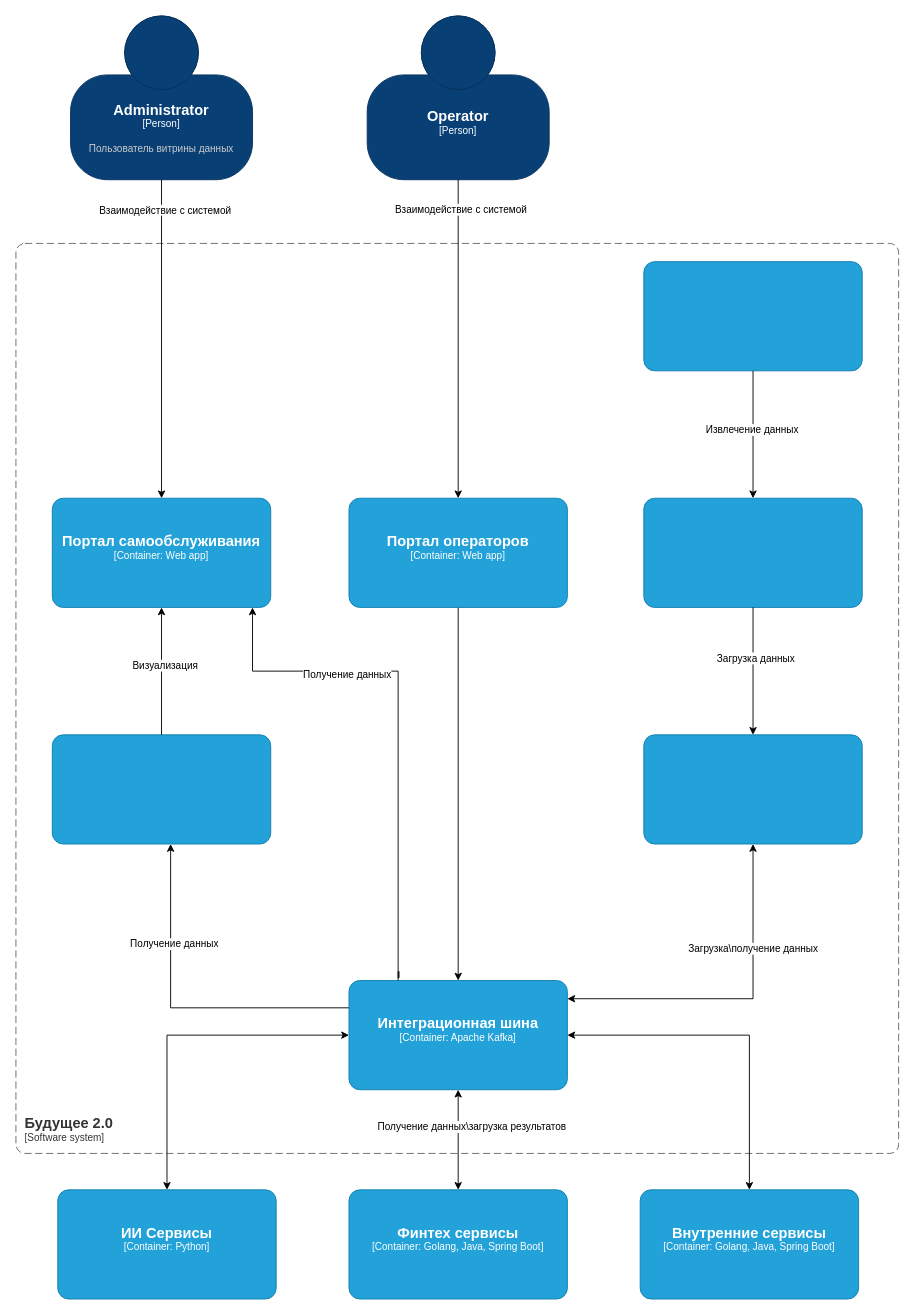
Some shapes in this 915 by 1315 pixel diagram are drawn without their labels. Each missing label, with the centre of its shape:
BI система [Container: Power BI]: [161,789]
Data LikeHouse [Container: Apache Iceberg]: [752,789]
DWH [Container: Microsoft SQL-сервер]: [752,316]
EL [Container: Apache Airflow]: [752,552]
